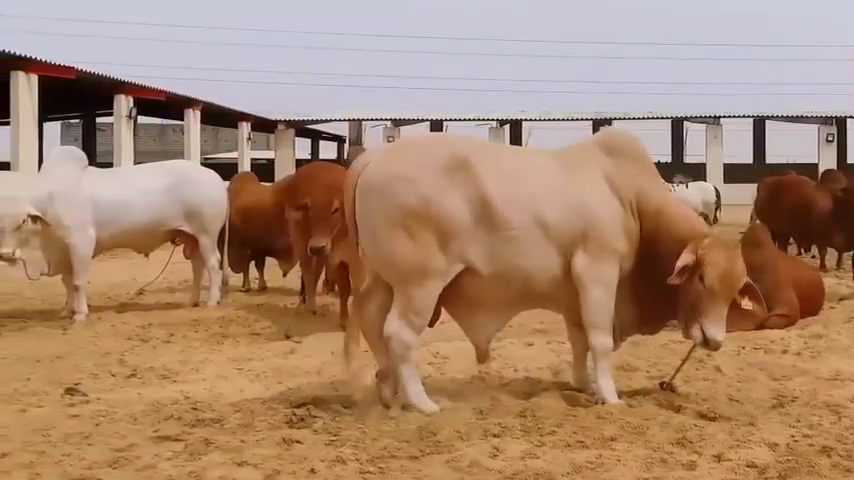bo: (336, 115, 768, 436), (2, 143, 235, 322), (277, 139, 356, 339), (718, 213, 828, 337), (746, 158, 851, 260), (211, 145, 281, 290), (654, 162, 724, 227)
